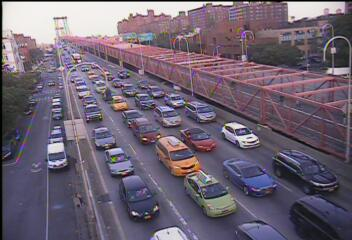neg: (14, 39, 29, 58)
